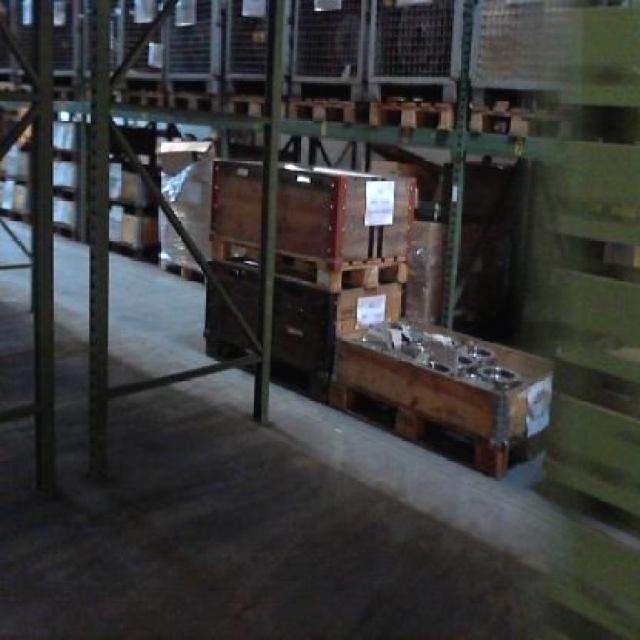pallets: (328, 318, 549, 474), (271, 162, 412, 394), (209, 158, 260, 325), (203, 285, 246, 354)
